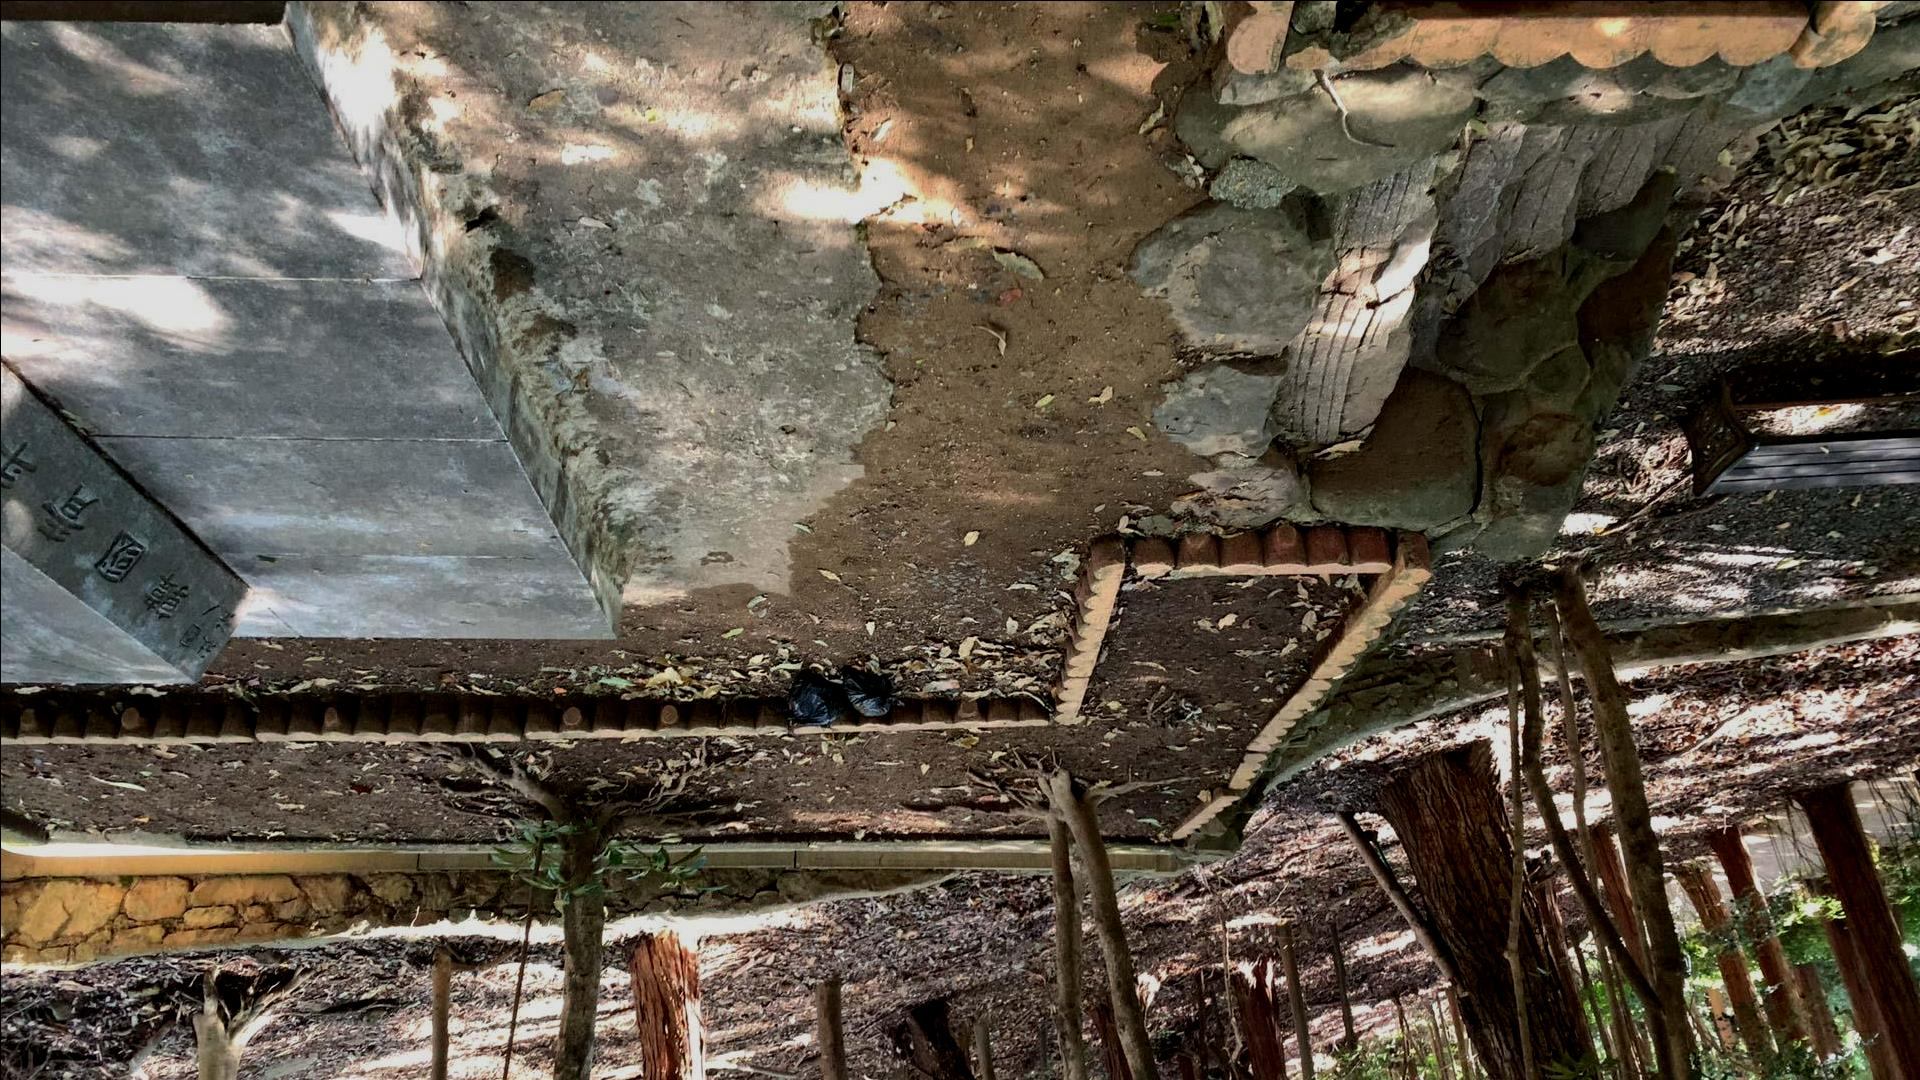black_bag: (785, 669, 853, 731), (840, 665, 909, 717)
